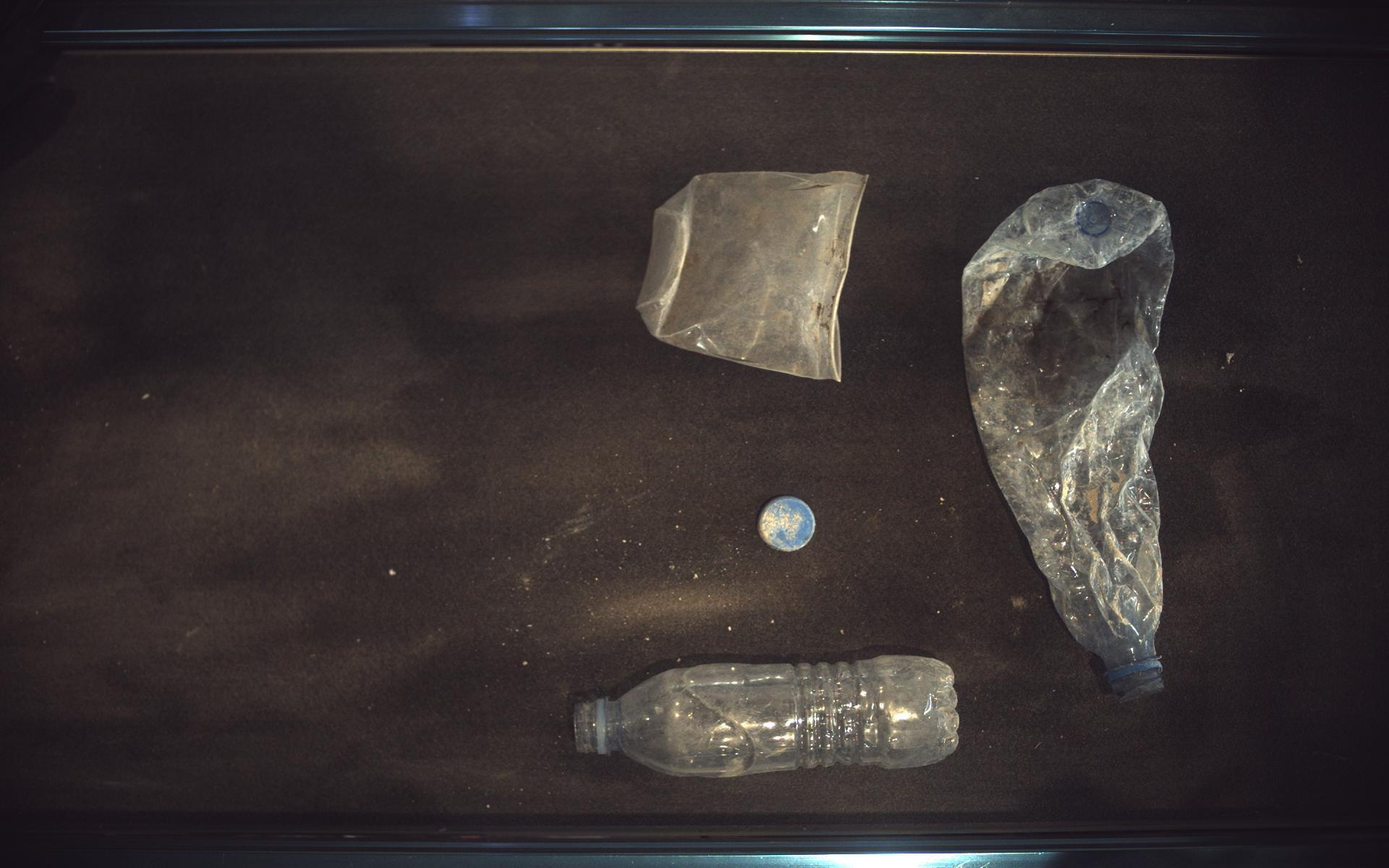general_w: (965, 179, 1177, 702), (637, 170, 869, 380), (575, 657, 961, 778), (760, 496, 817, 552)
